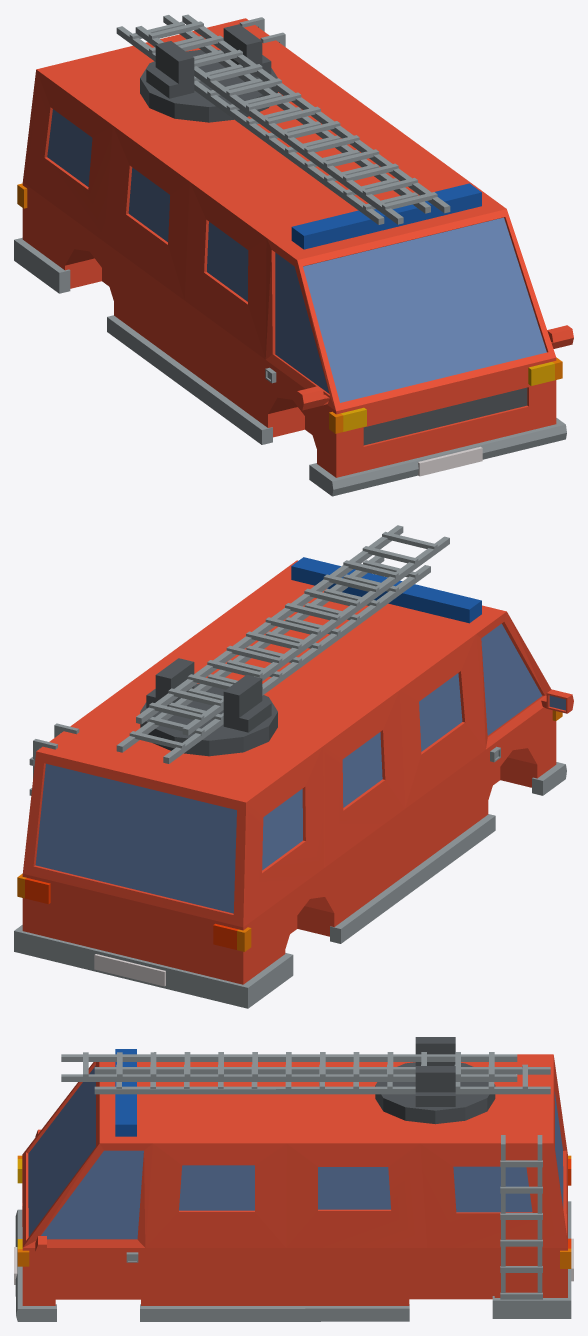
Rendered from Car_15.fbx.
The picture shows the model from 3 angles, top to bottom: view 1: azimuth 30°, elevation 25°; view 2: azimuth 150°, elevation 25°; view 3: azimuth 270°, elevation 25°; orthographic projection. The views are drawn at different scales.
Parts seen in each view (by area): view 1: Car_15; view 2: Car_15; view 3: Car_15.
Boxes of the visible parts, left/top/right/bottom form: Car_15: left=14, top=14, right=573, bottom=496; Car_15: left=14, top=525, right=573, bottom=1008; Car_15: left=14, top=1037, right=573, bottom=1321.
Bounding box in the file's own units: 4.36 × 3.84 × 8.98.
